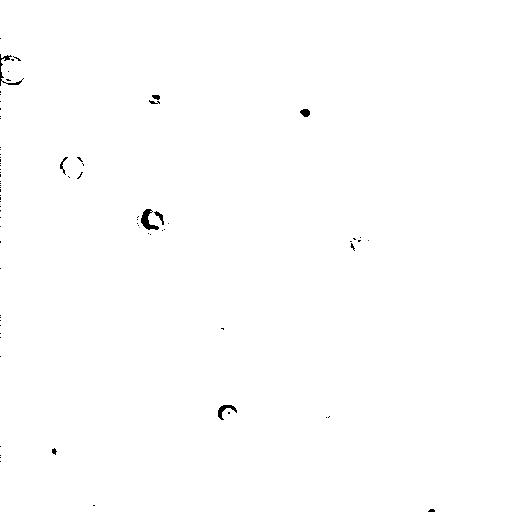micro-algae: (481, 170, 511, 215), (137, 201, 170, 236), (289, 96, 321, 127), (41, 435, 71, 467), (2, 53, 27, 85), (59, 153, 86, 182), (345, 234, 373, 260), (415, 496, 447, 512), (216, 403, 239, 423)
